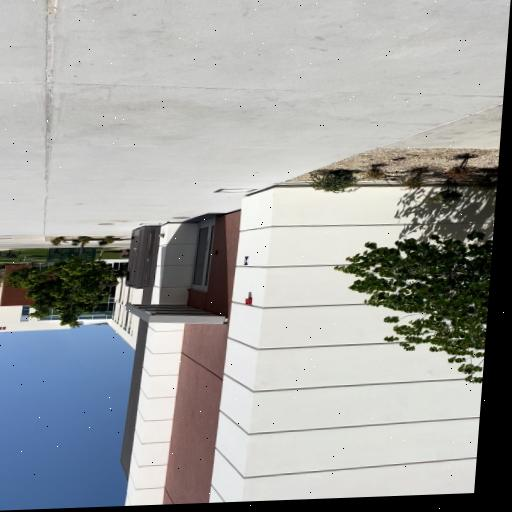target2: (243, 257, 250, 265)
